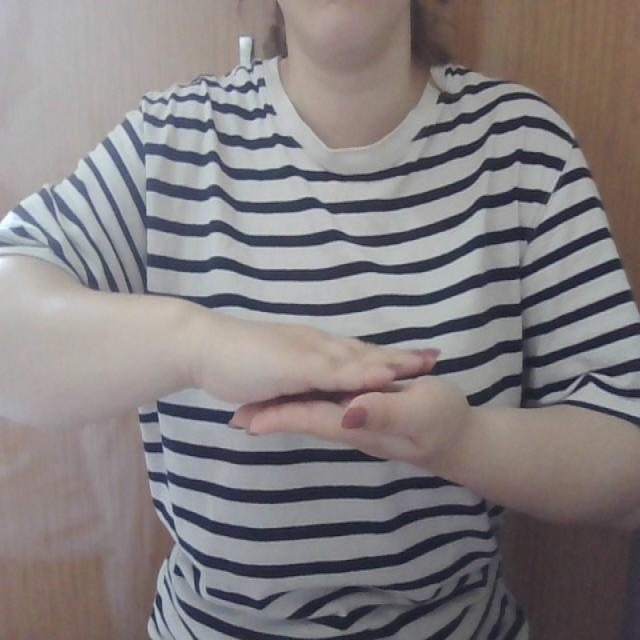Arkadas: (140, 282, 493, 486)
